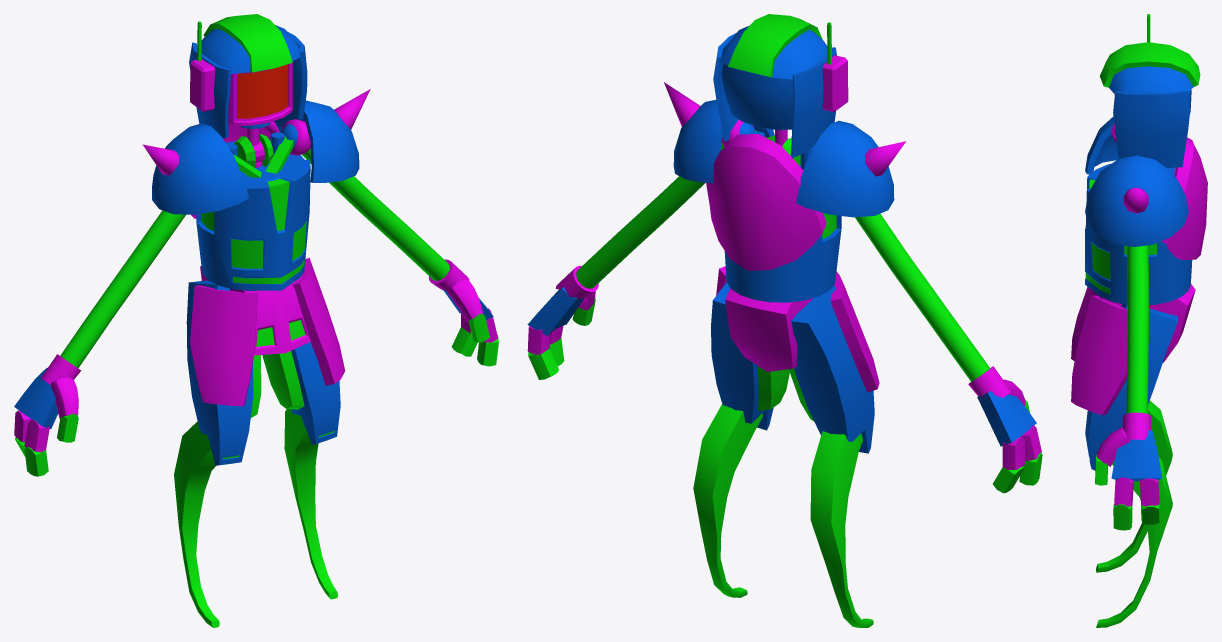
The model's file is RobotLo3.fbx.
The picture shows the model from 3 angles, left to right: view 1: azimuth 30°, elevation 25°; view 2: azimuth 150°, elevation 25°; view 3: azimuth 270°, elevation 25°; orthographic projection. The views are drawn at different scales.
Visible parts, largest first — view 1: MeshCopyCopy; view 2: MeshCopyCopy; view 3: MeshCopyCopy.
Boxes of the visible parts, x1,y1,x2,y2 form: MeshCopyCopy: [14, 14, 498, 627]; MeshCopyCopy: [527, 14, 1042, 627]; MeshCopyCopy: [1071, 14, 1207, 627].
Bounding box in the file's own units: 207 × 246 × 54.24.
